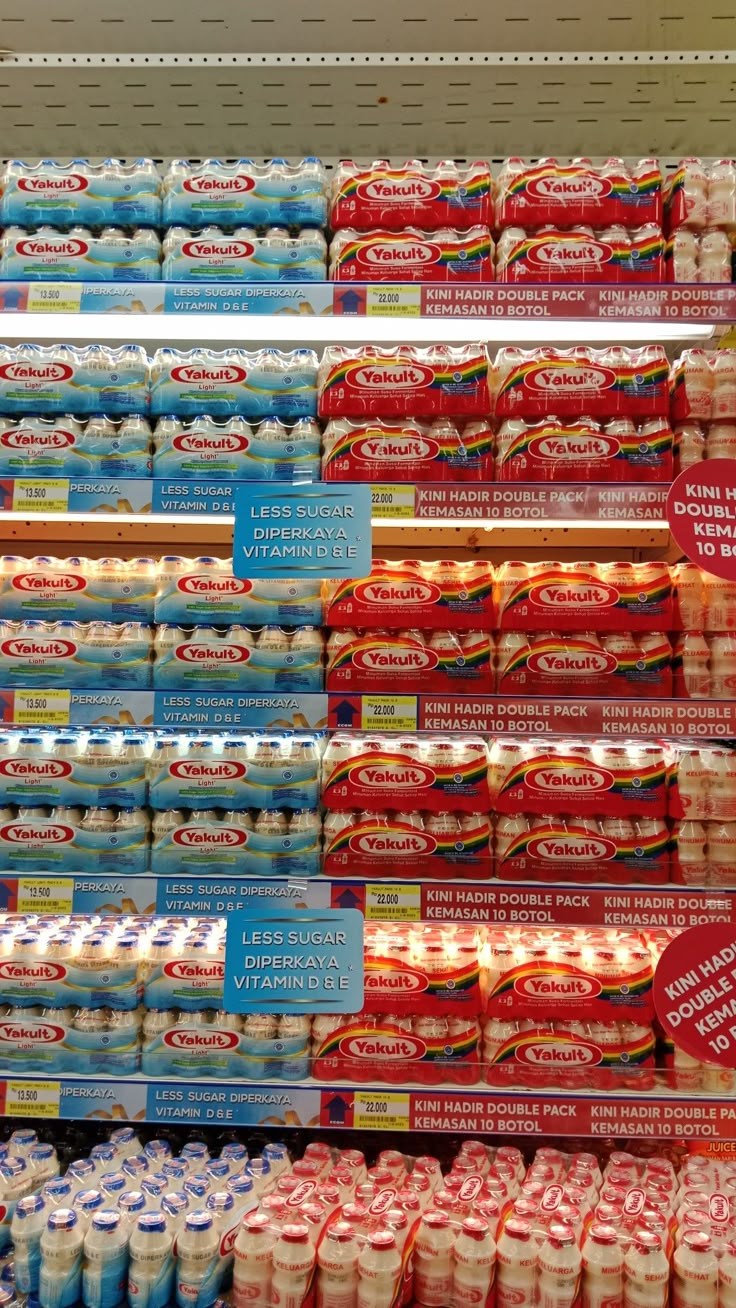Yakult: (315, 730, 501, 822), (327, 147, 493, 230)
